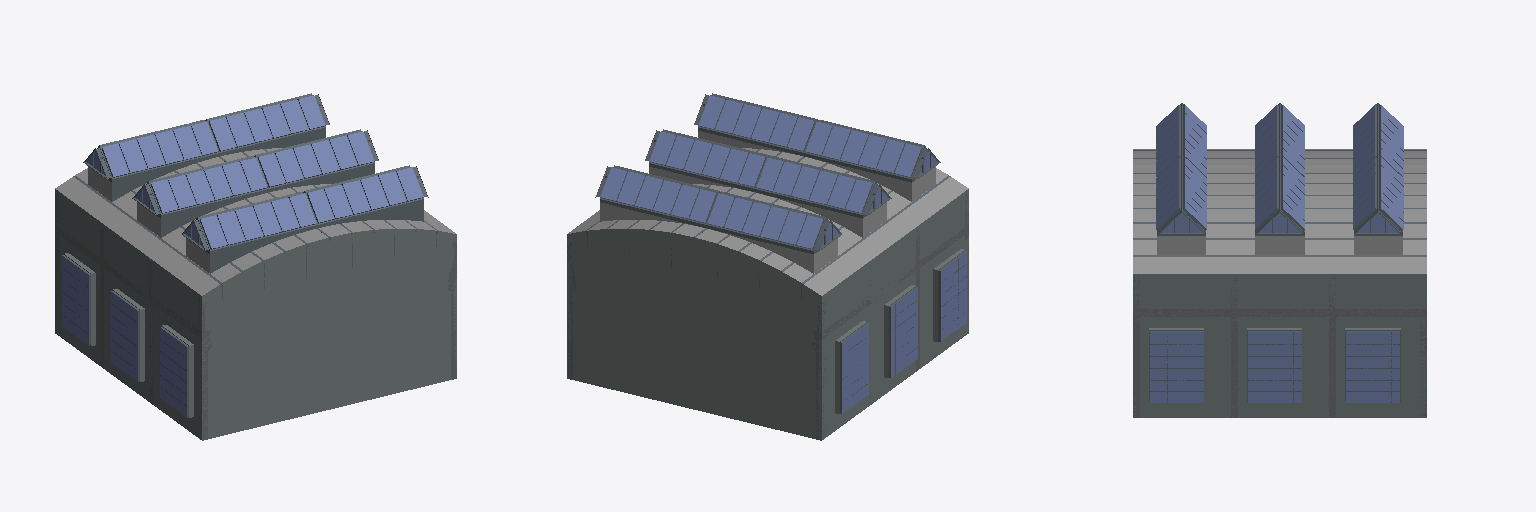
The model's file is Storage.obj.
3 views of the same model, side by side, from view 1: azimuth 30°, elevation 25°; view 2: azimuth 150°, elevation 25°; view 3: azimuth 270°, elevation 25° (orthographic).
Visible parts, largest first — view 1: Mesh233 back_wall2 Model, Mesh170 mistnost_base5 deleni_svisle5 Model, Mesh133 mistnost_base3 deleni_svisle3 Model, Mesh26 mistnost_base1 deleni_svisle1 Model, Mesh16 okno_a1 Model, Mesh166 okno_a9 Model, Mesh124 okno_a6 Model, Mesh39 okno_a3 Model, Mesh141 okno_a8 Model, Mesh176 okno_a10 Model, Mesh25 win0_1 Model, Mesh94 win0_3 Model (+6 smaller); view 2: Mesh2 back_wall1 Model, Mesh26 mistnost_base1 deleni_svisle1 Model, Mesh170 mistnost_base5 deleni_svisle5 Model, Mesh133 mistnost_base3 deleni_svisle3 Model, Mesh51 okno_a4 Model, Mesh179 okno_a11 Model, Mesh129 okno_a7 Model, Mesh209 okno_a12 Model, Mesh24 okno_a2 Model, Mesh95 okno_a5 Model, Mesh25 win0_1 Model, Mesh210 win0_5 Model (+4 smaller); view 3: Mesh143 mistnost_base4 deleni_svisle4 Model, Mesh203 mistnost_base6 deleni_svisle6 Model, Mesh45 mistnost_base2 deleni_svisle2 Model, Mesh71 win0_2 Model, Mesh231 win0_6 Model, Mesh158 win0_4 Model, Mesh133 mistnost_base3 deleni_svisle3 Model, Mesh26 mistnost_base1 deleni_svisle1 Model, Mesh170 mistnost_base5 deleni_svisle5 Model, Mesh51 okno_a4 Model, Mesh166 okno_a9 Model, Mesh95 okno_a5 Model (+15 smaller).
Part boxes in pixels (left/top/right/bottom): Mesh233 back_wall2 Model: left=202, top=229, right=456, bottom=440; Mesh170 mistnost_base5 deleni_svisle5 Model: left=153, top=229, right=327, bottom=439; Mesh133 mistnost_base3 deleni_svisle3 Model: left=104, top=193, right=273, bottom=402; Mesh26 mistnost_base1 deleni_svisle1 Model: left=55, top=157, right=224, bottom=366; Mesh16 okno_a1 Model: left=100, top=121, right=218, bottom=178; Mesh166 okno_a9 Model: left=305, top=167, right=423, bottom=224; Mesh124 okno_a6 Model: left=149, top=157, right=267, bottom=214; Mesh39 okno_a3 Model: left=207, top=95, right=325, bottom=152; Mesh141 okno_a8 Model: left=256, top=131, right=374, bottom=188; Mesh176 okno_a10 Model: left=198, top=193, right=316, bottom=250; Mesh25 win0_1 Model: left=62, top=253, right=95, bottom=345; Mesh94 win0_3 Model: left=111, top=289, right=144, bottom=381; Mesh2 back_wall1 Model: left=567, top=229, right=821, bottom=440; Mesh26 mistnost_base1 deleni_svisle1 Model: left=696, top=229, right=870, bottom=439; Mesh170 mistnost_base5 deleni_svisle5 Model: left=799, top=157, right=968, bottom=368; Mesh133 mistnost_base3 deleni_svisle3 Model: left=750, top=193, right=919, bottom=404; Mesh51 okno_a4 Model: left=600, top=167, right=718, bottom=224; Mesh179 okno_a11 Model: left=805, top=121, right=923, bottom=178; Mesh129 okno_a7 Model: left=756, top=157, right=874, bottom=214; Mesh209 okno_a12 Model: left=698, top=95, right=816, bottom=152; Mesh24 okno_a2 Model: left=707, top=193, right=825, bottom=250; Mesh95 okno_a5 Model: left=649, top=131, right=767, bottom=188; Mesh25 win0_1 Model: left=835, top=321, right=868, bottom=413; Mesh210 win0_5 Model: left=933, top=249, right=966, bottom=341; Mesh143 mistnost_base4 deleni_svisle4 Model: left=1231, top=184, right=1328, bottom=417; Mesh203 mistnost_base6 deleni_svisle6 Model: left=1133, top=184, right=1230, bottom=417; Mesh45 mistnost_base2 deleni_svisle2 Model: left=1329, top=184, right=1426, bottom=417; Mesh71 win0_2 Model: left=1345, top=328, right=1400, bottom=402; Mesh231 win0_6 Model: left=1149, top=328, right=1203, bottom=402; Mesh158 win0_4 Model: left=1247, top=328, right=1301, bottom=402; Mesh133 mistnost_base3 deleni_svisle3 Model: left=1231, top=149, right=1328, bottom=182; Mesh26 mistnost_base1 deleni_svisle1 Model: left=1329, top=149, right=1426, bottom=182; Mesh170 mistnost_base5 deleni_svisle5 Model: left=1133, top=149, right=1230, bottom=182; Mesh51 okno_a4 Model: left=1378, top=157, right=1403, bottom=231; Mesh166 okno_a9 Model: left=1156, top=157, right=1181, bottom=231; Mesh95 okno_a5 Model: left=1280, top=157, right=1304, bottom=231.
Bounding box in the file's own units: 25.28 × 17.97 × 24.